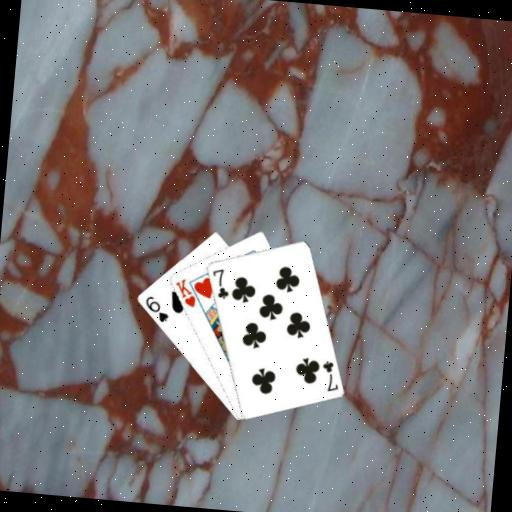6S: (140, 293, 171, 324)
7C: (207, 265, 233, 301), (317, 357, 342, 394)
KH: (170, 275, 198, 310)
